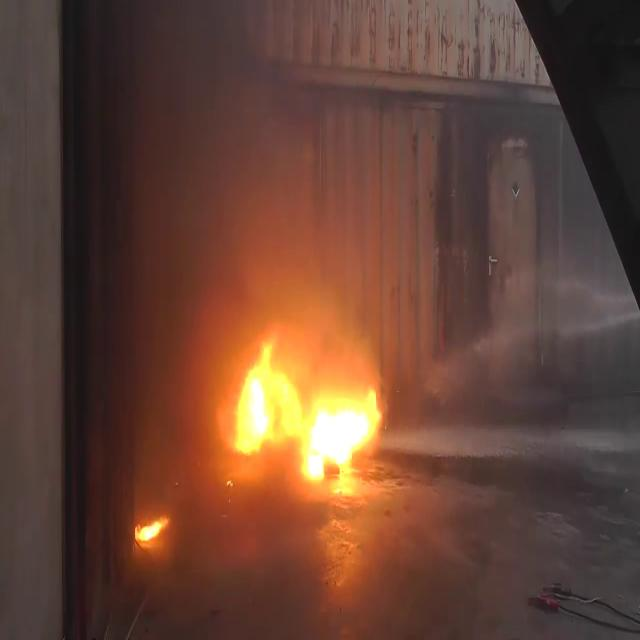Fire: (228, 332, 388, 492), (133, 506, 173, 544)
